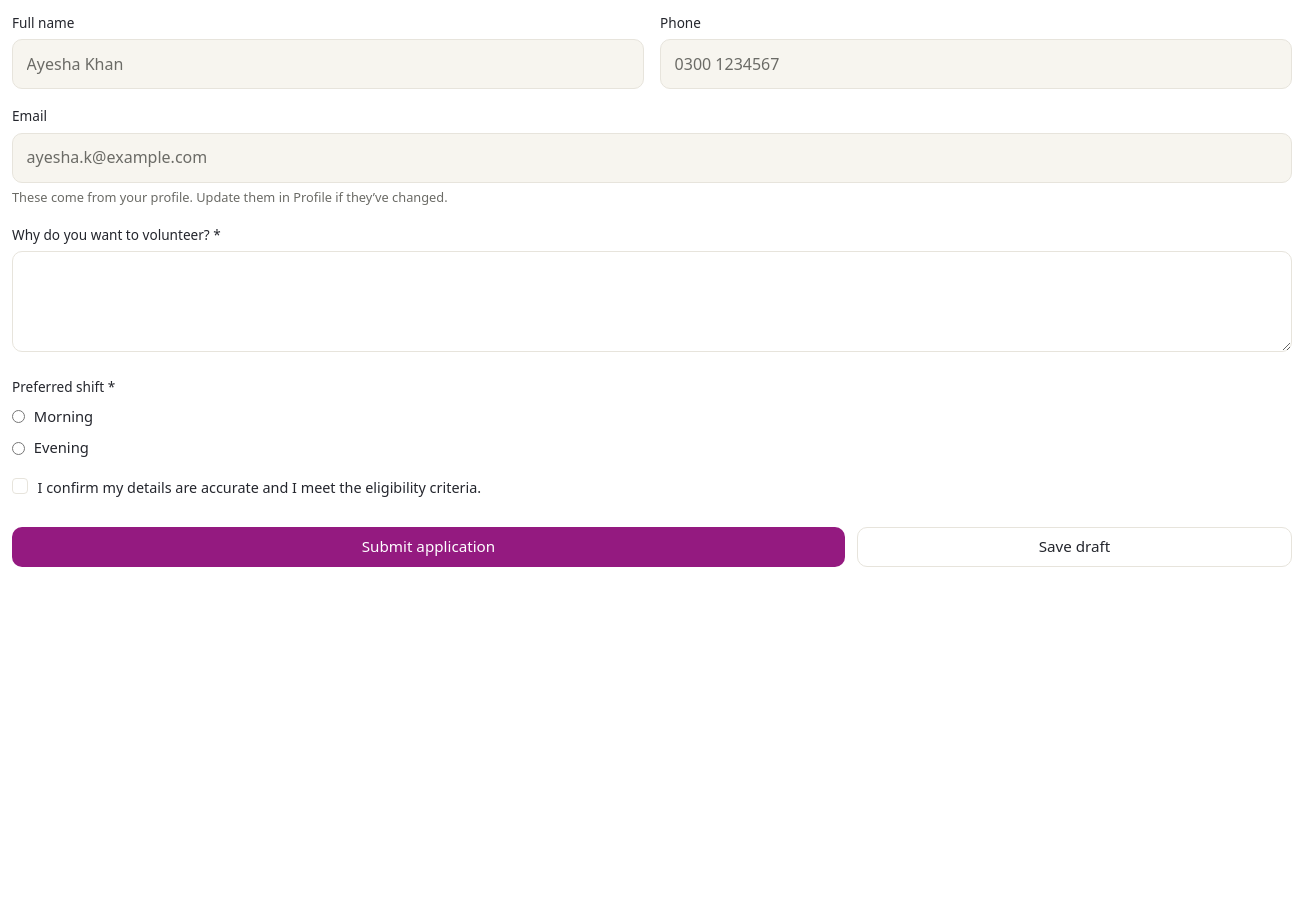
it: ApplyForm (dynamic) › saves draft to cloud and shows confirmation notice when clicking Save draft
Type "Draft answers here." into the text box labelled "Why do you want to volunteer? *" at (652, 302), box x1=12 y1=251 x2=1292 y2=352
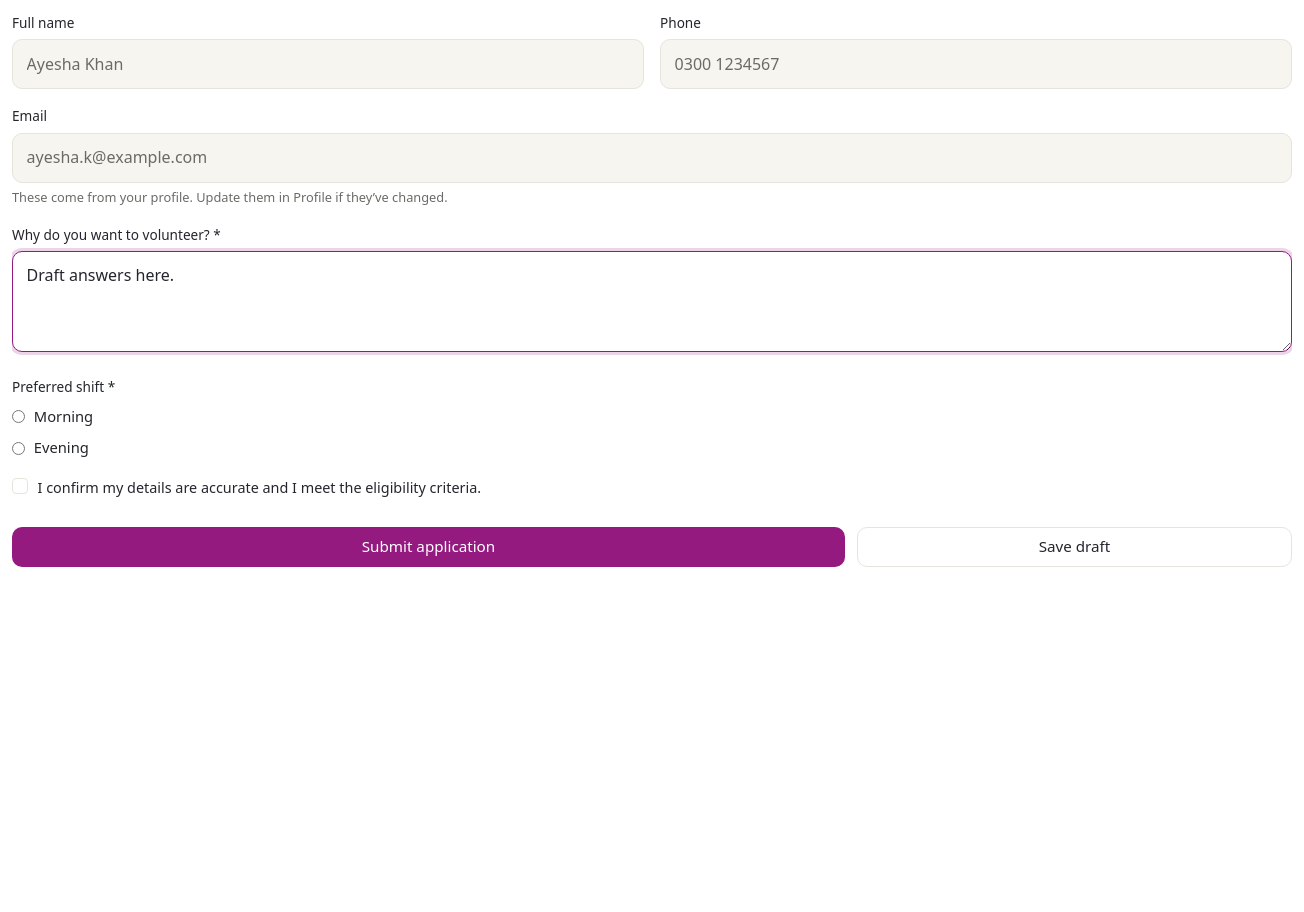
Click the button "Save draft" at (1074, 547), box x1=857 y1=527 x2=1292 y2=567
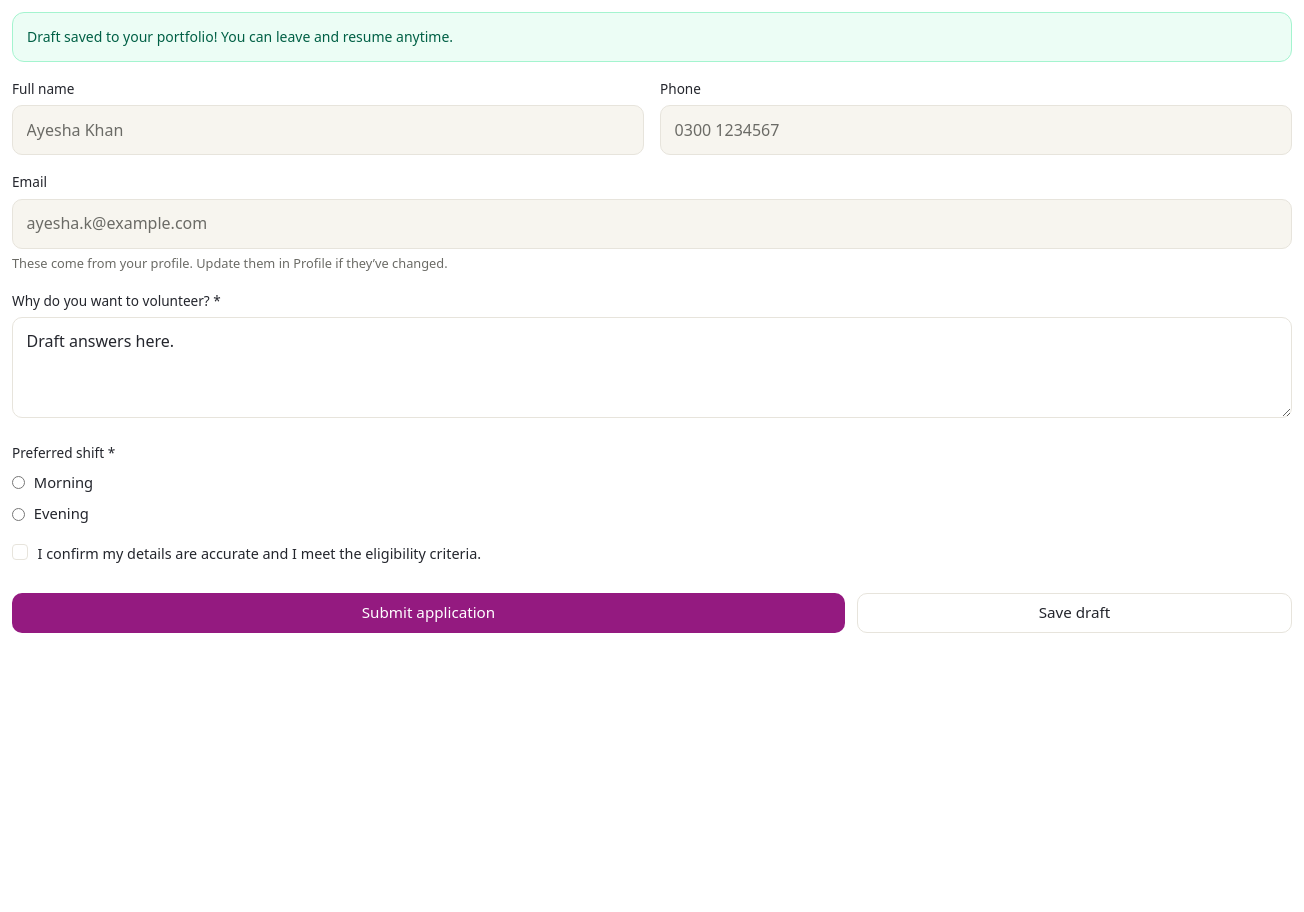
expect the text "Draft saved to your portfolio! You can leave and resume anytime." is shown: met, box x1=12 y1=12 x2=1292 y2=62
